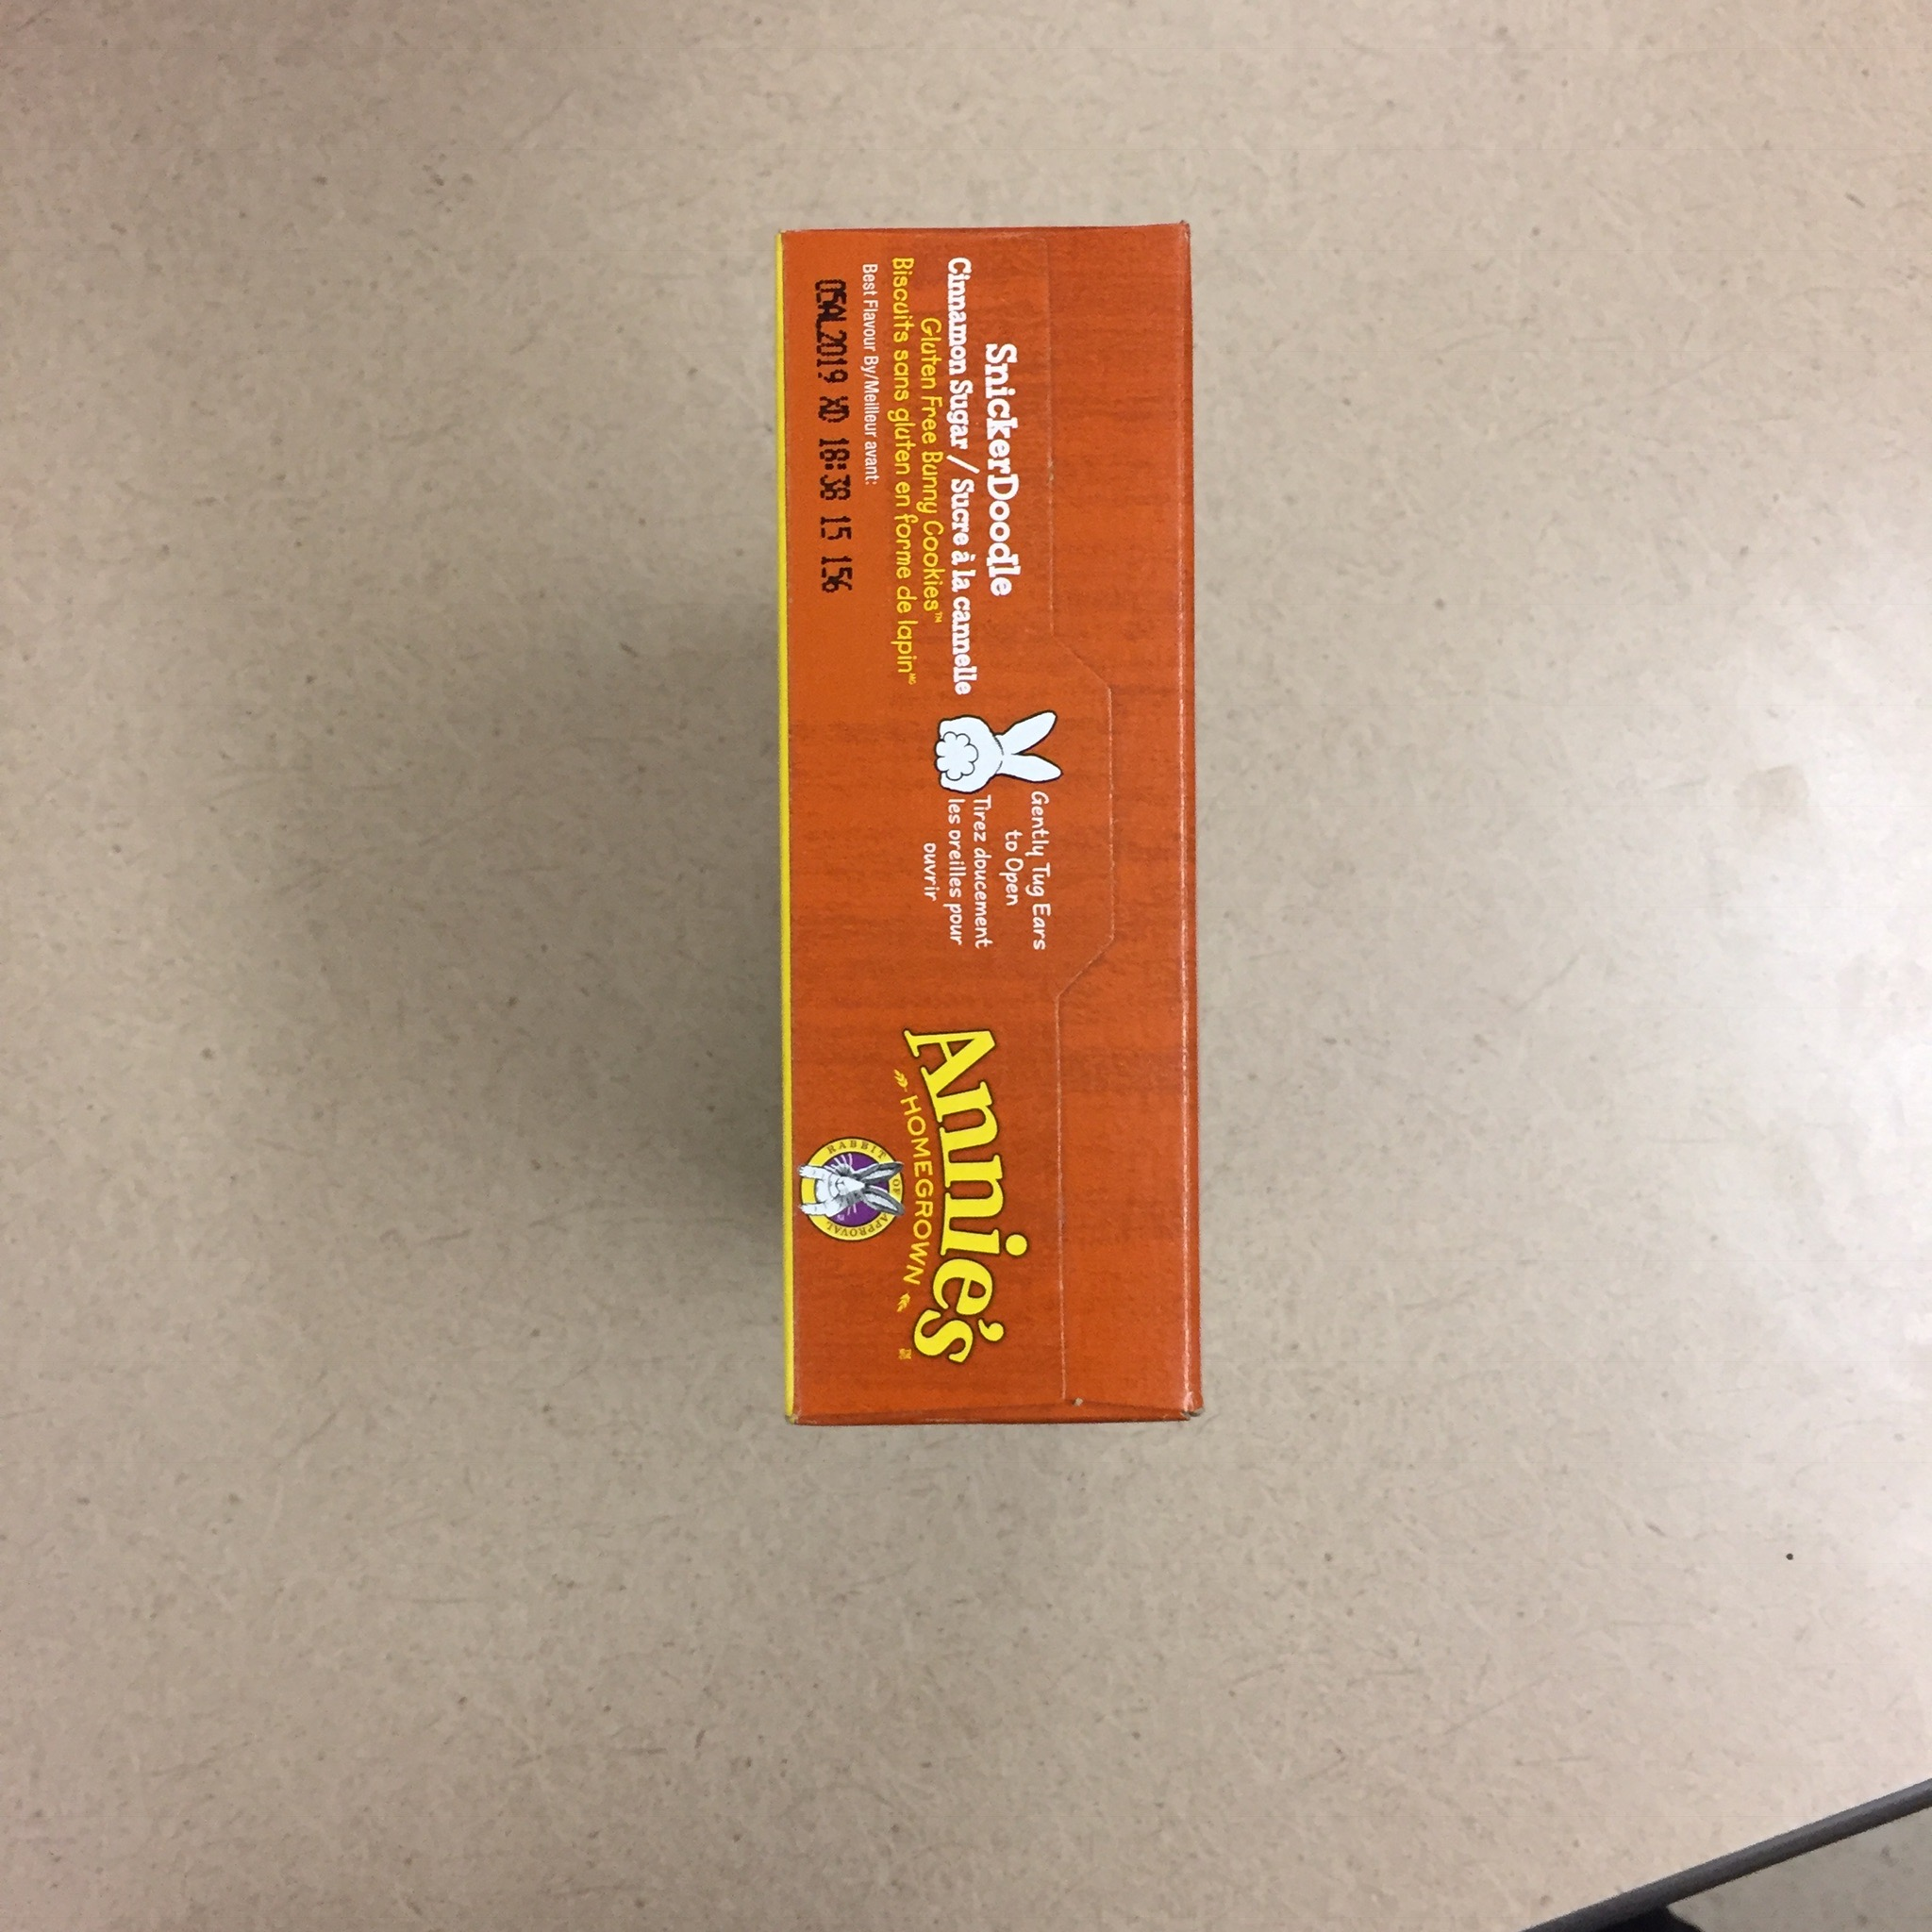annies_snickerdoodle_cinnamon_sugar: (771, 216, 1207, 1431)
